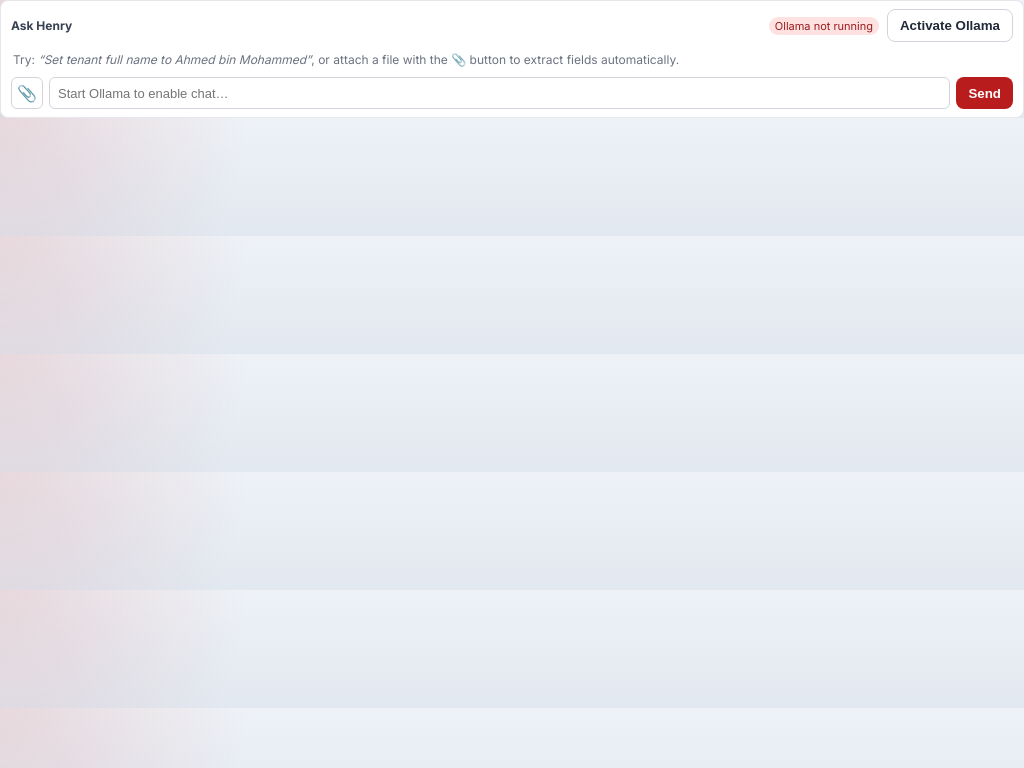
Test case: LlmFooterChatBox › submitting when Ollama offline shows offline warning message
Type "Update tenant name" into the field named "Chat input" at (500,93), box [49,77,950,109]
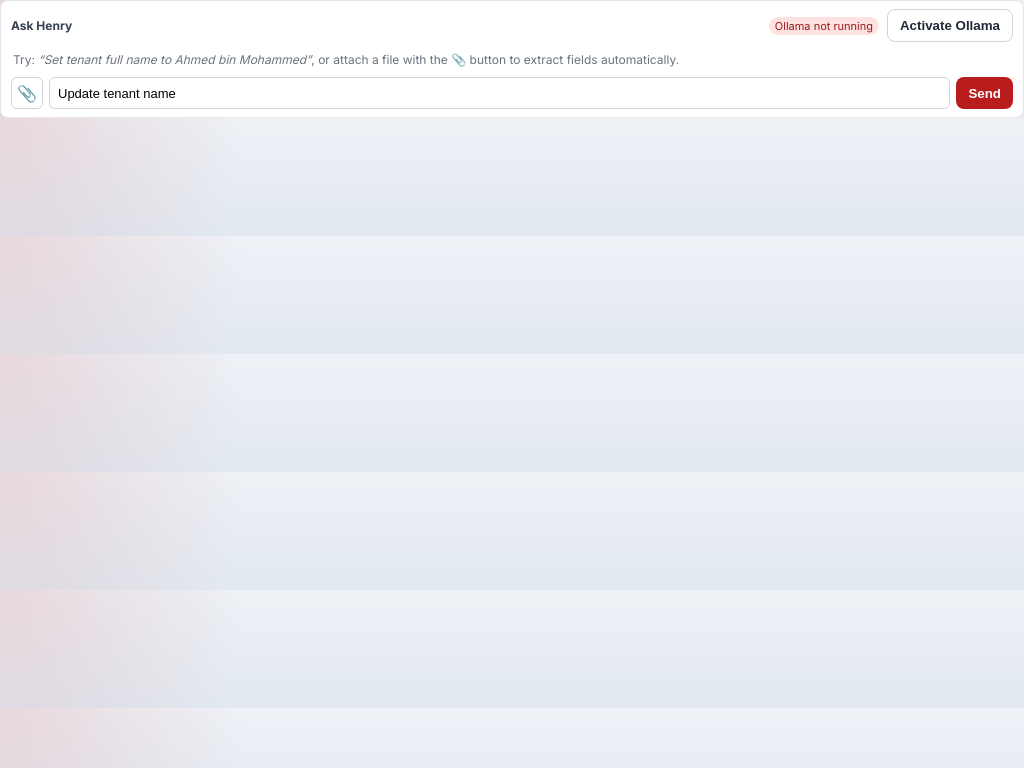
Click the button "Send" at (985,93), box [956,77,1013,109]
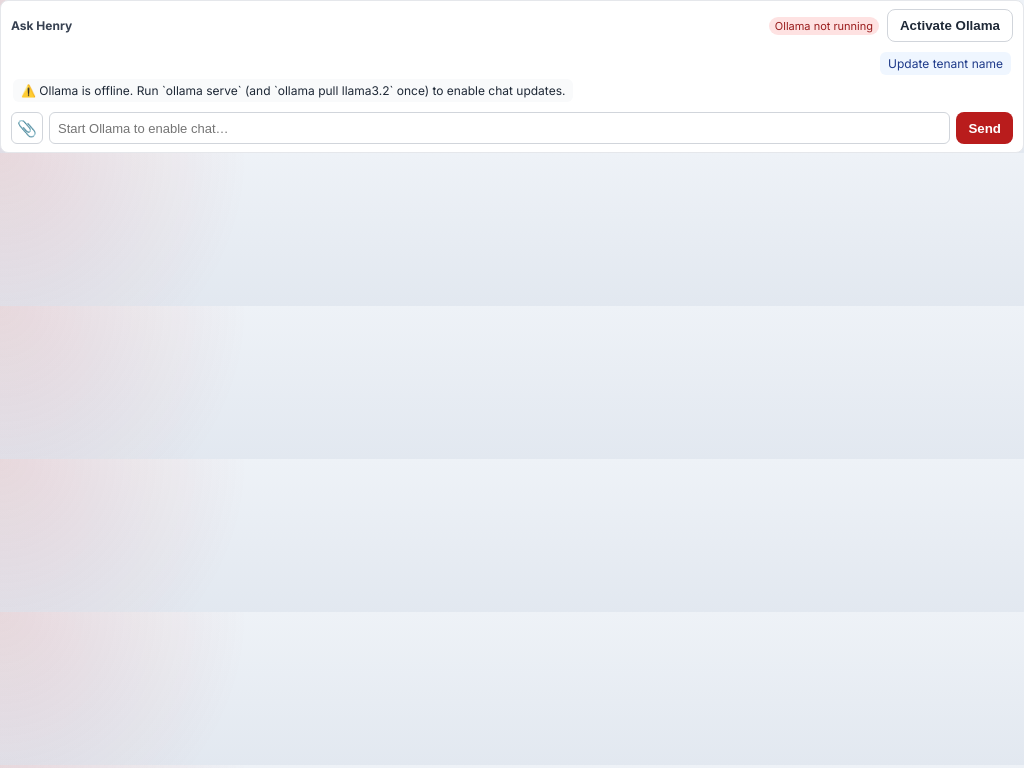
Expected: the text "Update tenant name" is shown, [880,52,1011,75]
Expected: the text "Ollama is offline" is shown, [21,83,565,98]
